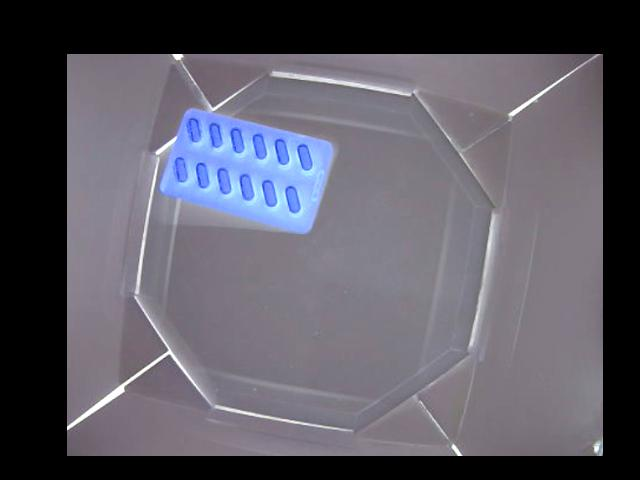Medicine: (159, 106, 335, 232)
